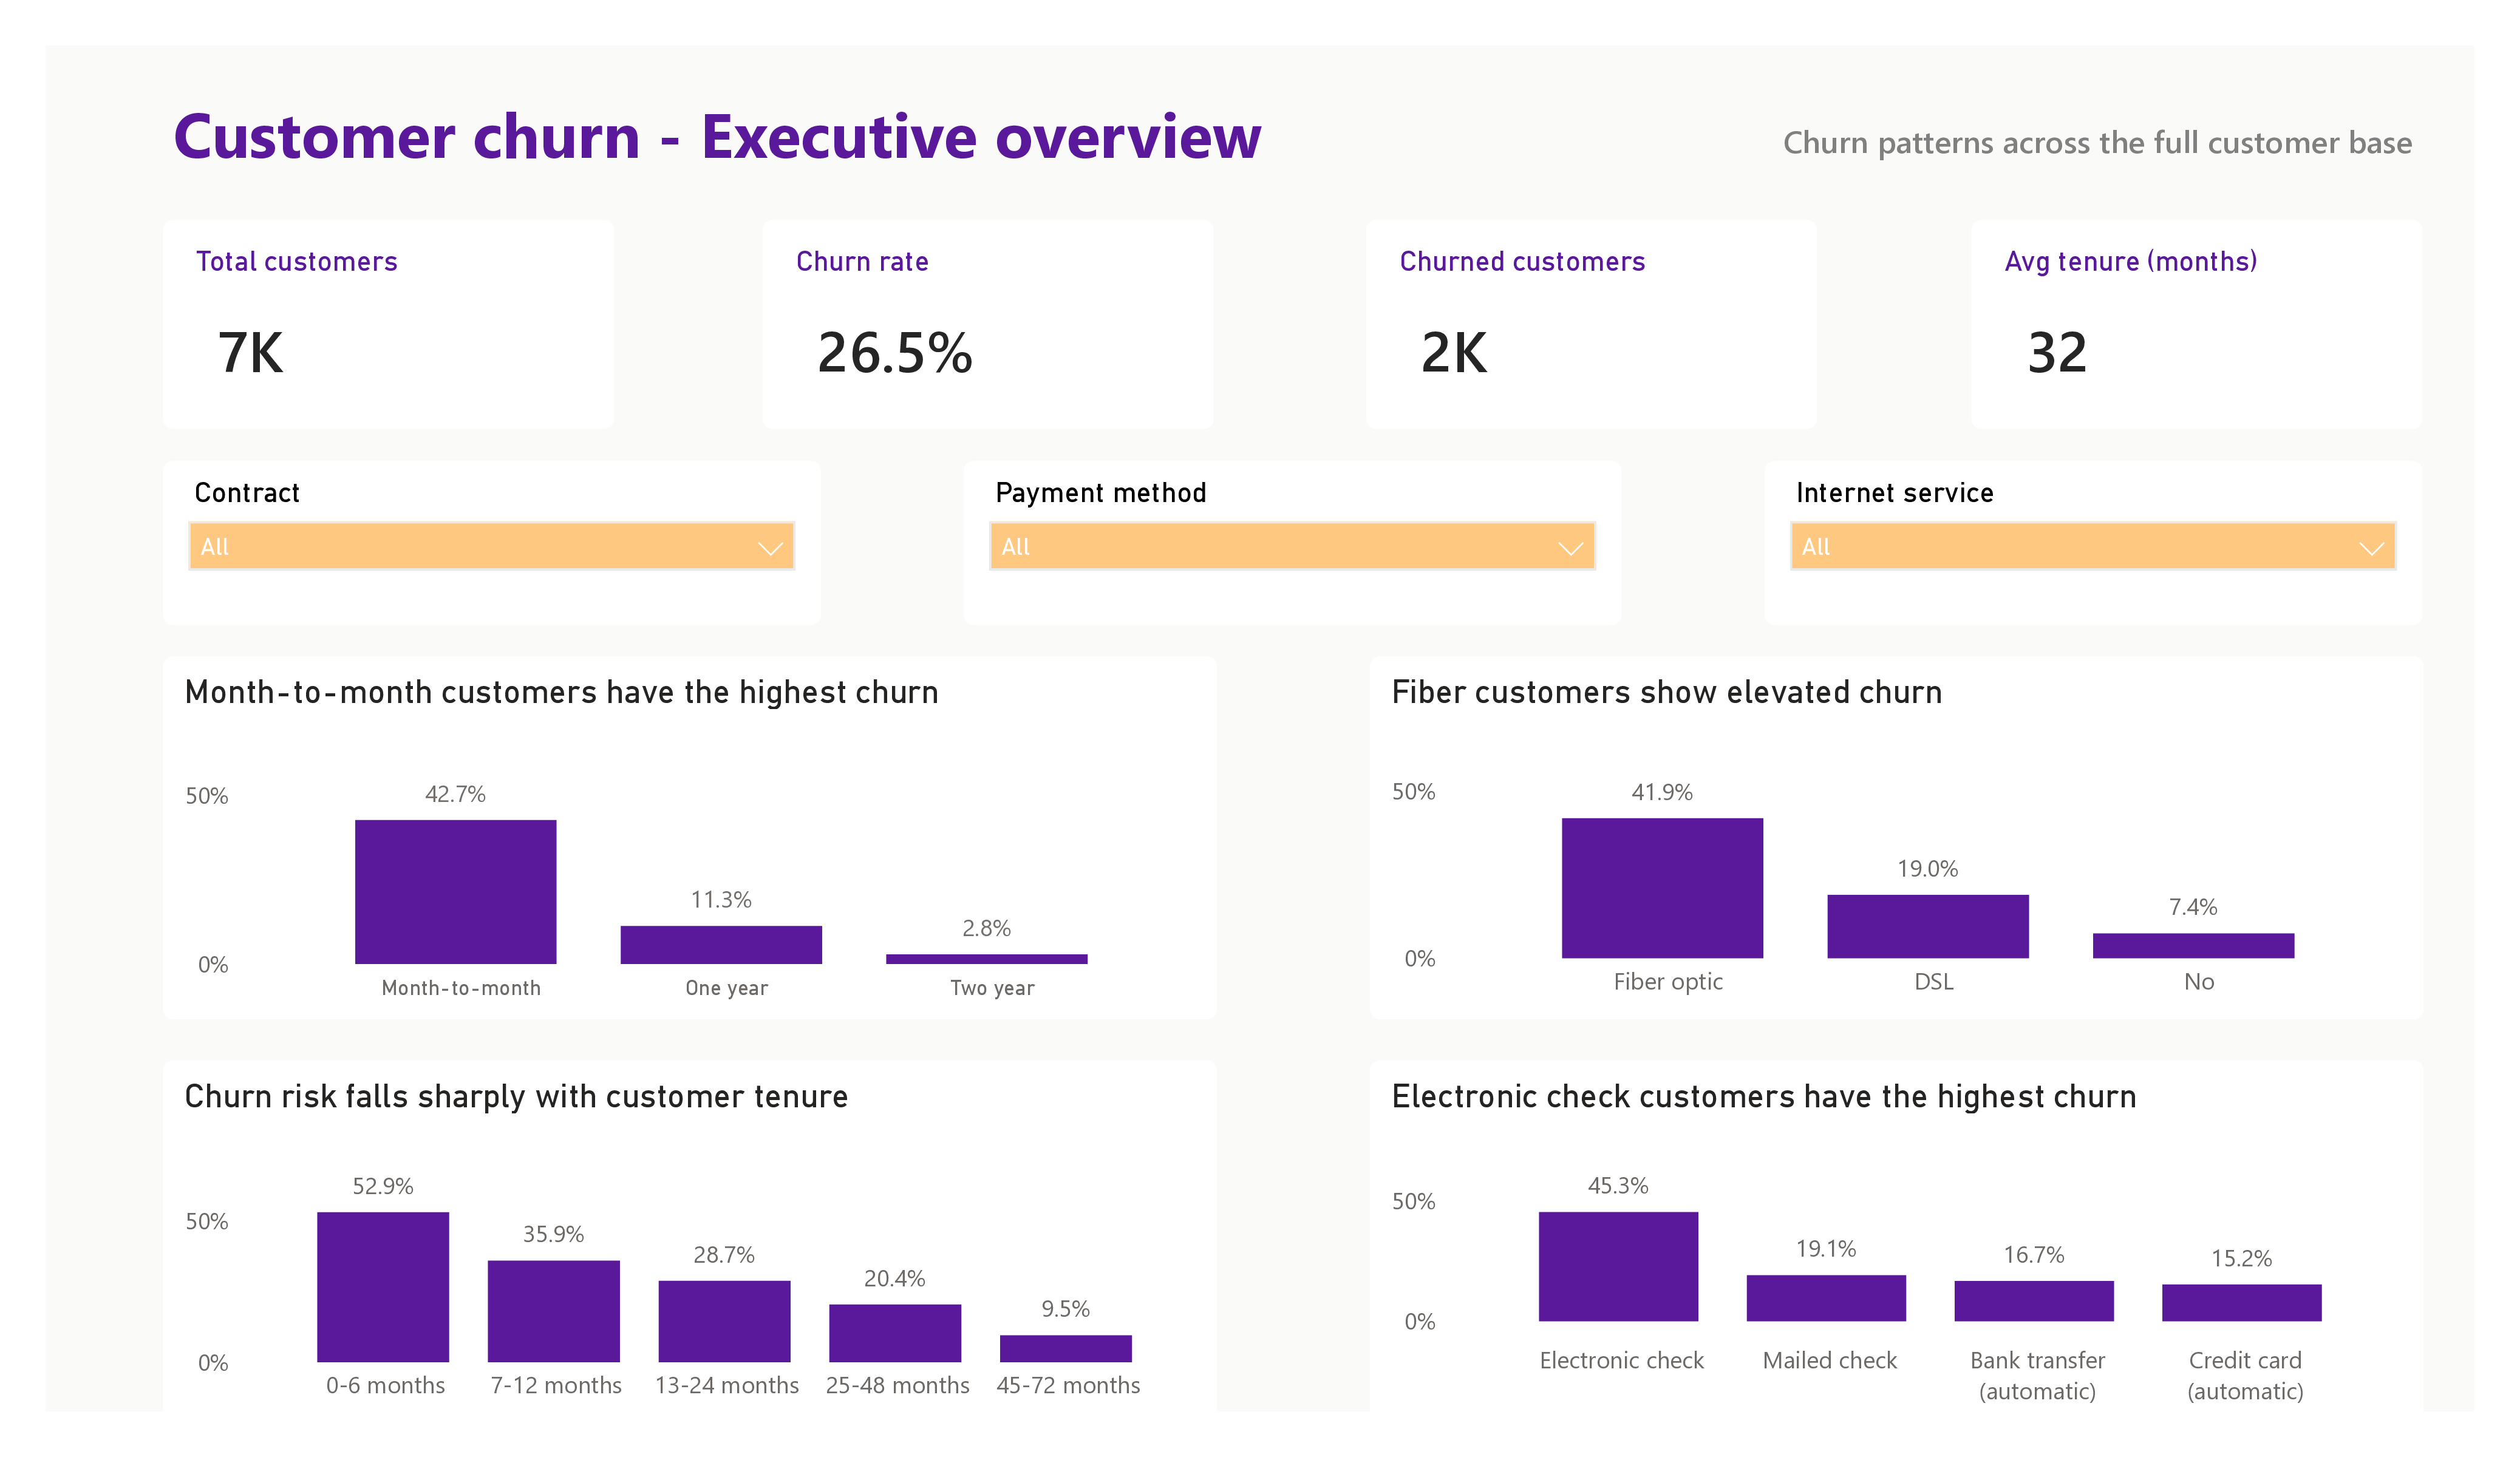

The page's visual inventory and layout, read from the dashboard file:
{"tool":"powerbi","page":{"name":"1 - Executive overview","canvas":[1280,720],"ordinal":0},"visuals":[{"type":"textbox","box":[60,17.1,601.7,55],"z":0},{"type":"textbox","box":[774.3,32.9,444.2,39.5],"z":1000},{"type":"cardVisual","title":"Total customers","fields":{"Data":["Measures (2).Base total customers"]},"box":[60,89.1,231.4,107.1],"z":2000},{"type":"cardVisual","title":"Churn rate","fields":{"Data":["Measures (2).Base churn rate"]},"box":[368.1,89.3,231.4,107.1],"z":3000},{"type":"cardVisual","title":"Churned customers","fields":{"Data":["Measures (2).Base churners"]},"box":[677.2,89.3,231.4,107.1],"z":4000},{"type":"cardVisual","title":"Avg tenure (months)","fields":{"Data":["Measures (2).Base average tenure"]},"box":[987.3,89.1,231.4,107.1],"z":5000},{"type":"slicer","fields":{"Values":["Customer base.contract"]},"box":[60,213,337,84],"z":6000},{"type":"slicer","fields":{"Values":["Customer base.internet_service"]},"box":[881,213,337,84],"z":7000},{"type":"slicer","fields":{"Values":["Customer base.payment_method"]},"box":[471,213,337,84],"z":8000},{"type":"clusteredColumnChart","title":"Month-to-month customers have the highest churn","fields":{"Category":["Customer base.contract"],"Y":["Measures (2).Base churn rate"]},"box":[60,312.9,540,185.7],"z":9000},{"type":"clusteredColumnChart","title":"Churn risk falls sharply with customer tenure","fields":{"Category":["Customer base.tenure_group"],"Y":["Measures (2).Base churn rate"]},"box":[60,520,540,185.7],"z":10000},{"type":"clusteredColumnChart","title":"Fiber customers show elevated churn","fields":{"Category":["Customer base.internet_service"],"Y":["Measures (2).Base churn rate"]},"box":[678.6,312.9,540,185.7],"z":11000},{"type":"clusteredColumnChart","title":"Electronic check customers have the highest churn","fields":{"Category":["Customer base.payment_method"],"Y":["Measures (2).Base churn rate"]},"box":[678.6,520,540,185.7],"z":12000},{"type":"actionButton","box":[1235.5,0,44.5,44.5],"z":13000}]}

Visuals, with their boxes on the page's 1280x720 design canvas (x1, y1, x2, y2). These are canvas units, not pixel positions in the 2520x1457 screenshot, which may show the page scaled, cropped or inside an application window:
textbox: (60, 17, 662, 72)
textbox: (774, 33, 1218, 72)
"Total customers" cardVisual: (60, 89, 291, 196)
"Churn rate" cardVisual: (368, 89, 600, 196)
"Churned customers" cardVisual: (677, 89, 909, 196)
"Avg tenure (months)" cardVisual: (987, 89, 1219, 196)
slicer - Customer base.contract: (60, 213, 397, 297)
slicer - Customer base.internet_service: (881, 213, 1218, 297)
slicer - Customer base.payment_method: (471, 213, 808, 297)
"Month-to-month customers have the highest churn" clusteredColumnChart: (60, 313, 600, 499)
"Churn risk falls sharply with customer tenure" clusteredColumnChart: (60, 520, 600, 706)
"Fiber customers show elevated churn" clusteredColumnChart: (679, 313, 1219, 499)
"Electronic check customers have the highest churn" clusteredColumnChart: (679, 520, 1219, 706)
actionButton: (1236, 0, 1280, 44)
